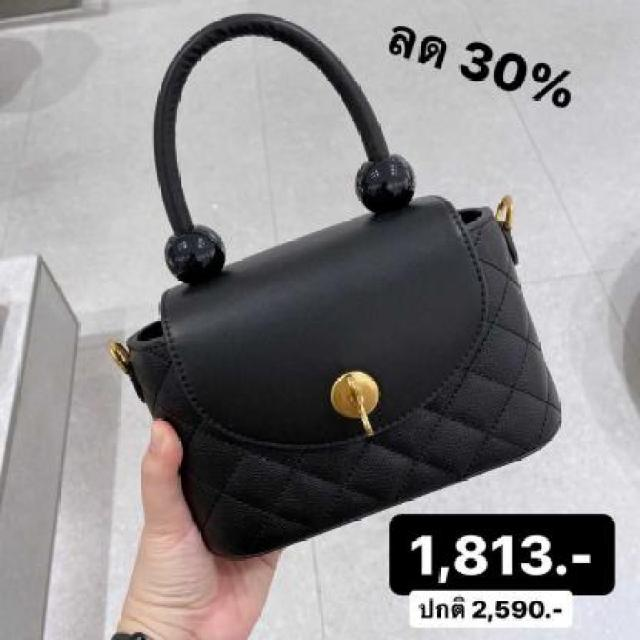Bag: (108, 0, 605, 595)
